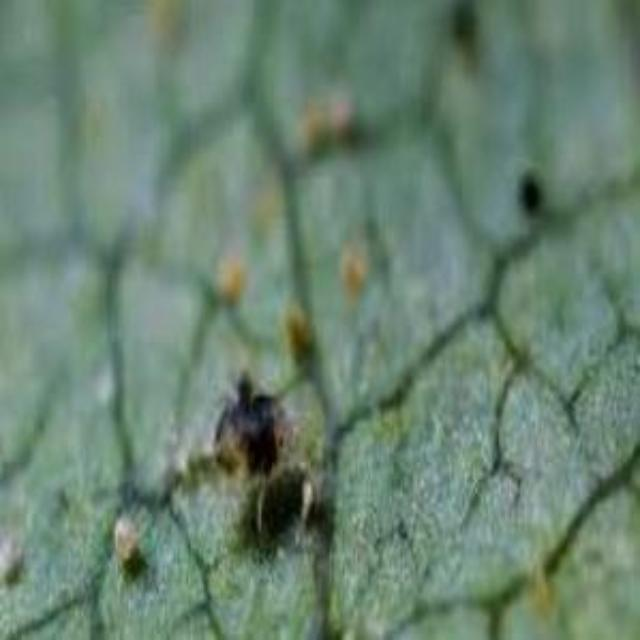spider mite: (112, 332, 376, 522)
